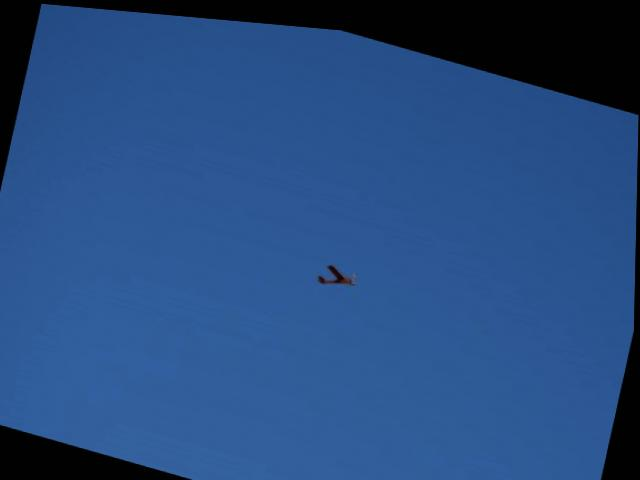iha: (314, 244, 370, 293)
